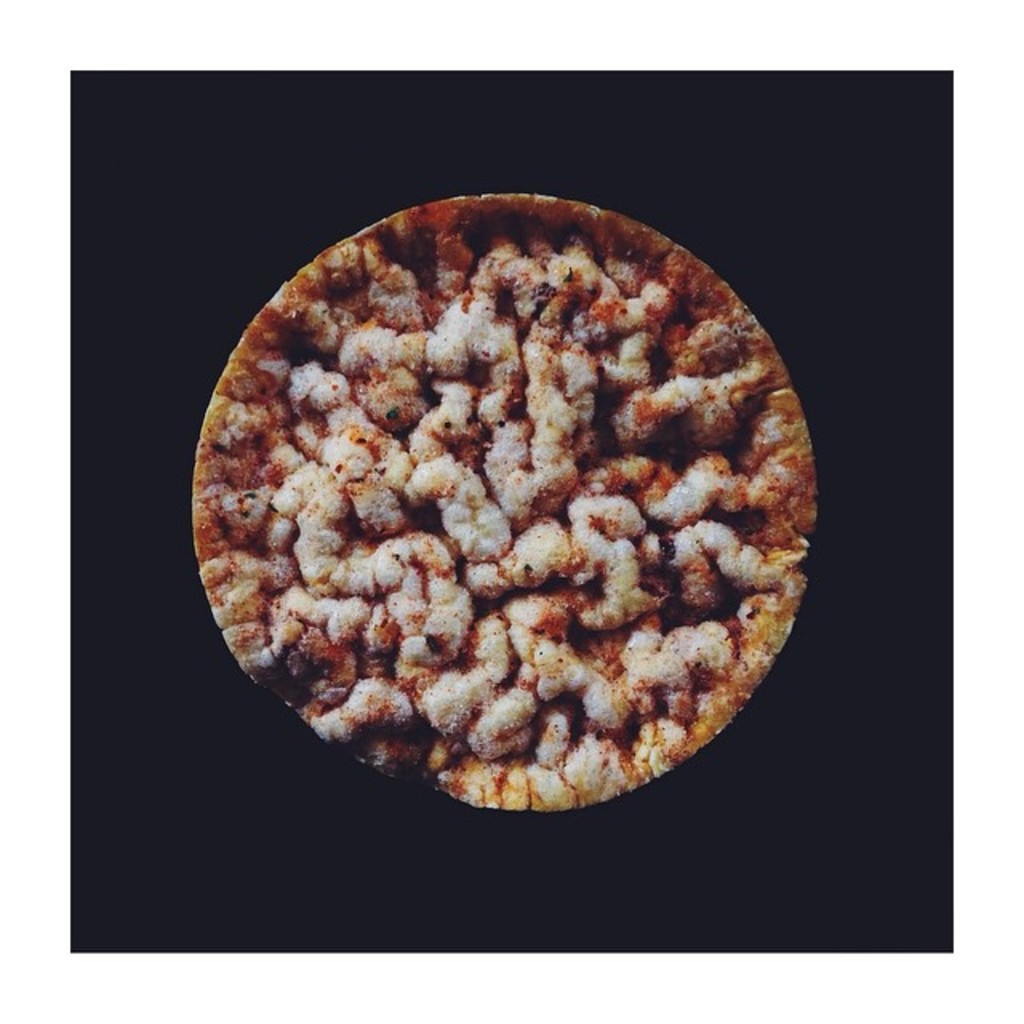Pizza: (201, 199, 824, 833)
